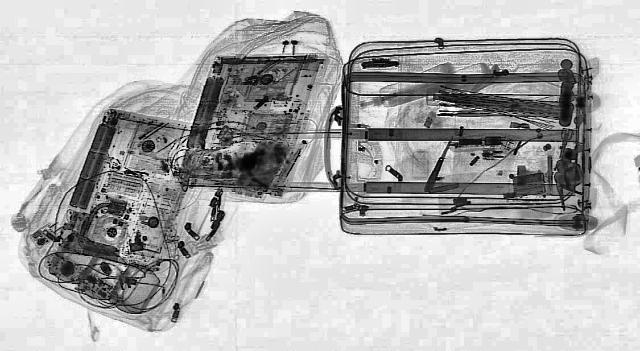Knife: (421, 136, 455, 190)
